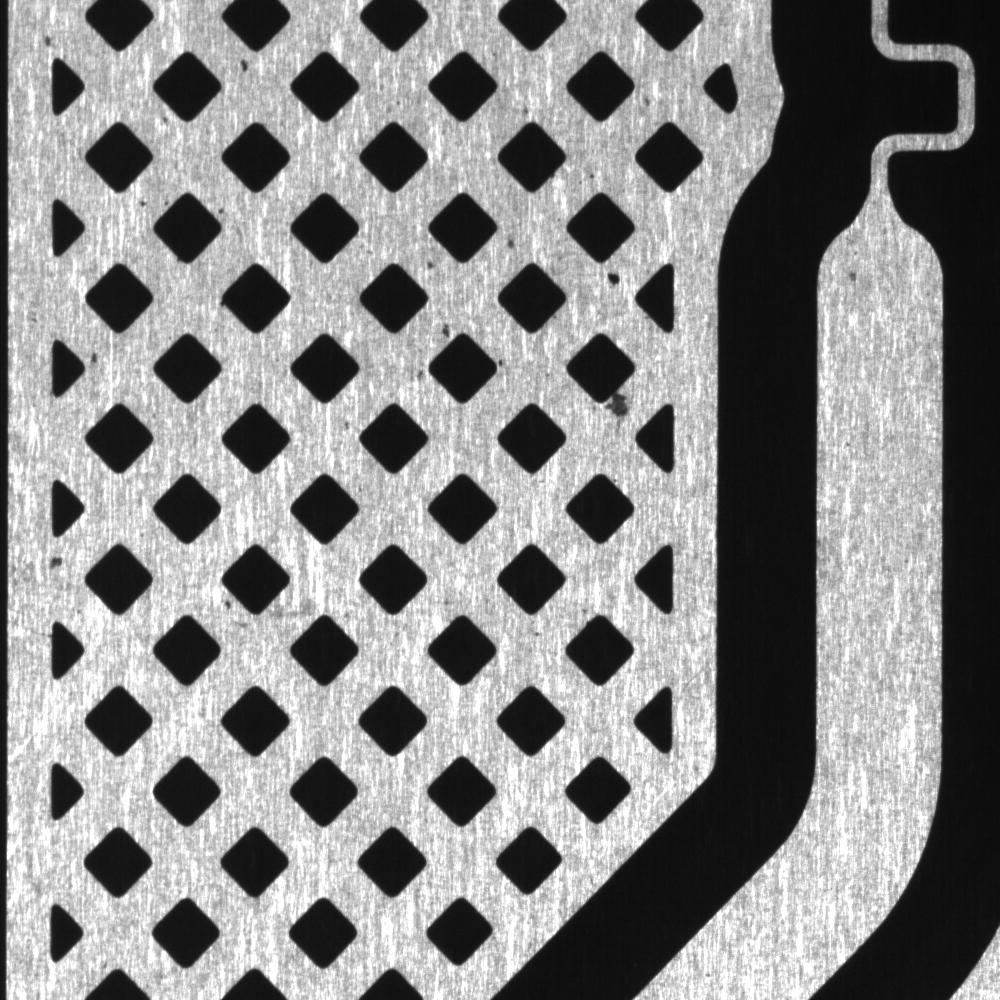Discolor: (589, 387, 638, 430)
Etching: (595, 264, 633, 297), (419, 246, 449, 280), (843, 263, 876, 292), (231, 52, 259, 80), (438, 316, 464, 344)
Pinhole: (501, 231, 525, 255)
